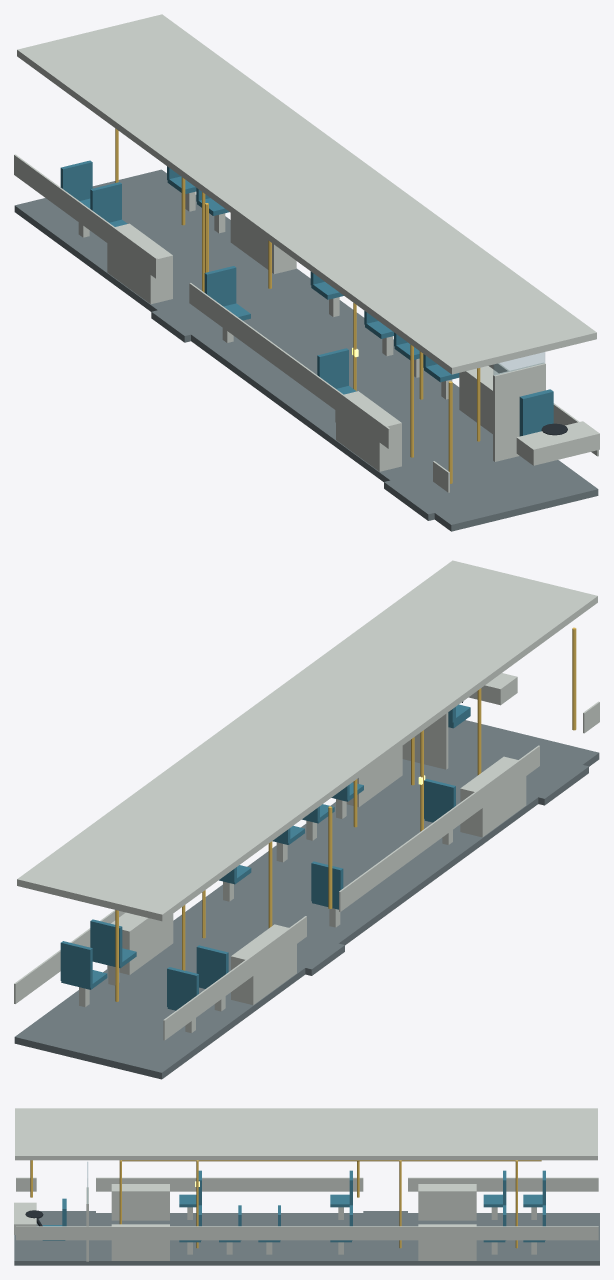
Rendered from city-bus-12m-interior.lod1.glb.
The picture shows the model from 3 angles, top to bottom: view 1: azimuth 30°, elevation 25°; view 2: azimuth 150°, elevation 25°; view 3: azimuth 270°, elevation 25°; orthographic projection. The views are drawn at different scales.
Visible parts, largest first — view 1: interior-batch-panel, interior-batch-floor, interior-batch-seat, interior-batch-rail; view 2: interior-batch-panel, interior-batch-floor, interior-batch-seat, interior-batch-rail; view 3: interior-batch-panel, interior-batch-floor, interior-batch-seat, interior-batch-rail.
Boxes of the visible parts, box(x1,y1,x2,y2) form: interior-batch-panel: box(14, 14, 599, 492); interior-batch-floor: box(14, 169, 598, 531); interior-batch-seat: box(60, 160, 553, 436); interior-batch-rail: box(115, 128, 480, 483); interior-batch-panel: box(14, 560, 599, 1040); interior-batch-floor: box(14, 720, 599, 1079); interior-batch-seat: box(60, 704, 470, 1010); interior-batch-rail: box(115, 627, 576, 1001); interior-batch-panel: box(14, 1108, 598, 1261); interior-batch-floor: box(14, 1211, 599, 1265); interior-batch-seat: box(42, 1170, 545, 1242); interior-batch-rail: box(30, 1160, 541, 1248).
Bounding box in the file's own units: 2.43 × 2.44 × 11.84.
